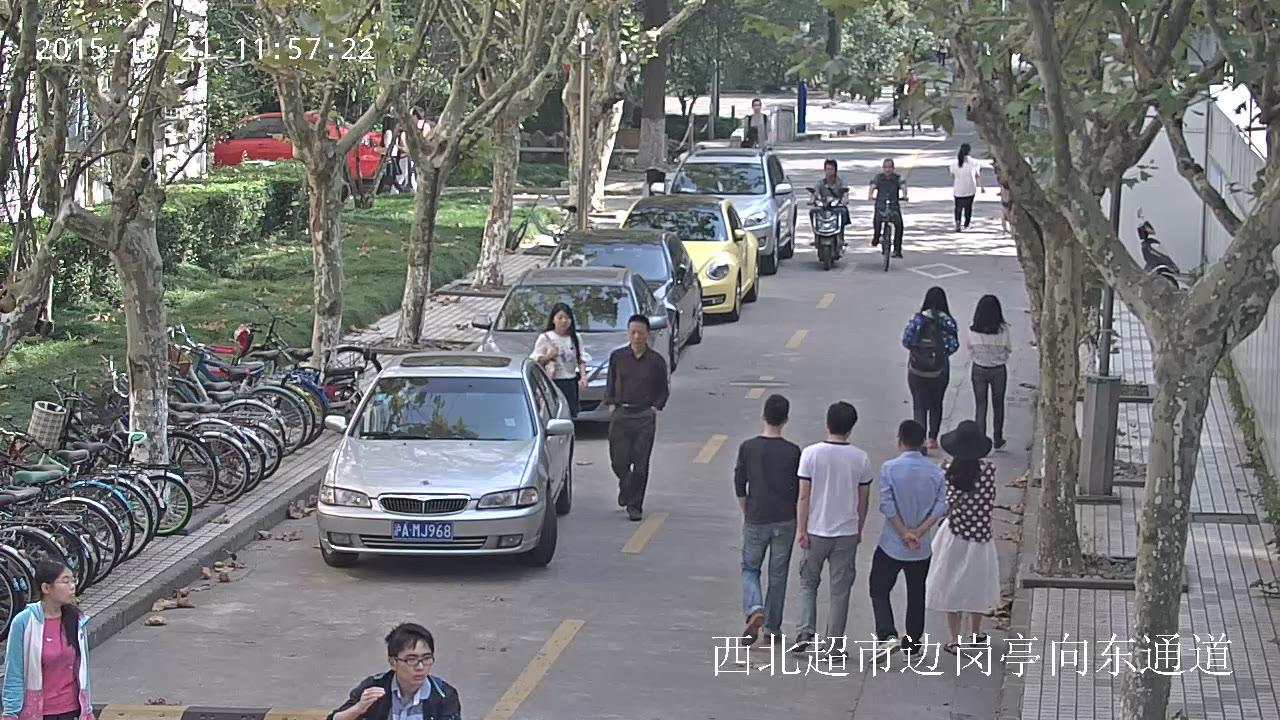person: (796, 400, 874, 665), (870, 419, 946, 669), (926, 420, 1003, 655), (733, 393, 803, 650), (1, 561, 94, 720), (326, 620, 462, 720), (605, 314, 670, 521), (903, 286, 959, 447), (967, 294, 1011, 449), (528, 302, 583, 420), (805, 158, 850, 271), (868, 158, 908, 272), (868, 158, 907, 257), (808, 158, 850, 245), (949, 141, 984, 233), (744, 97, 770, 150), (903, 67, 921, 137), (904, 68, 920, 96)
